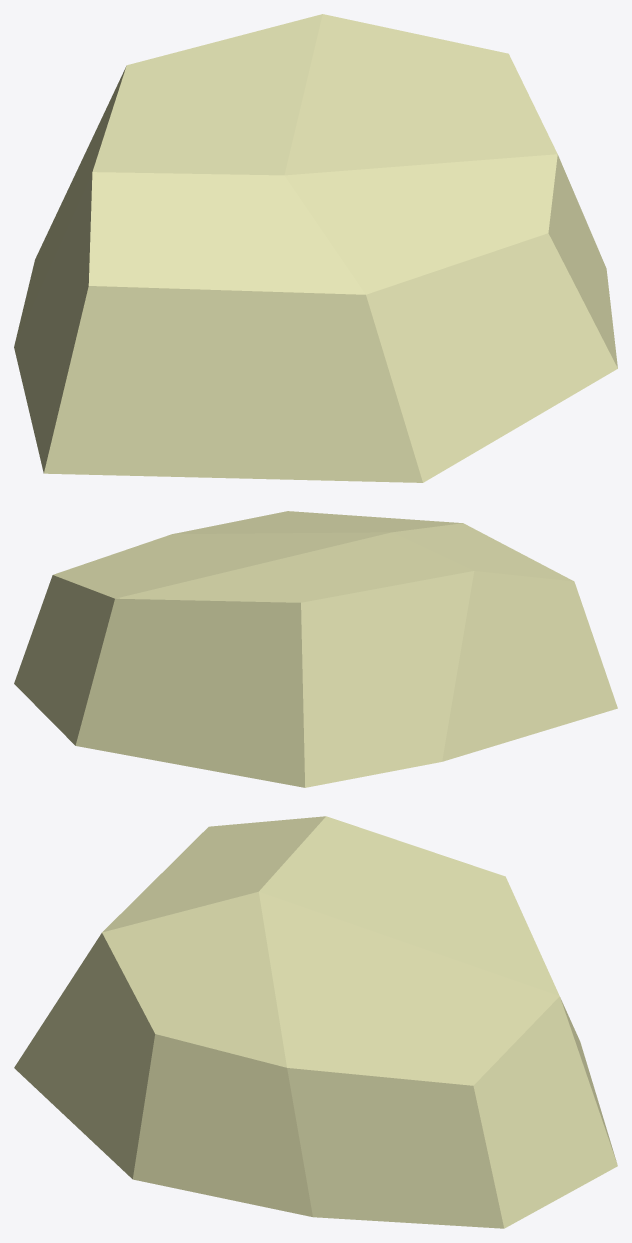
Rendered from Rock_Mesa_Medium_2.fbx.
The picture shows the model from 3 angles, top to bottom: view 1: azimuth 30°, elevation 25°; view 2: azimuth 150°, elevation 25°; view 3: azimuth 270°, elevation 25°; orthographic projection. The views are drawn at different scales.
Visible parts, largest first — view 1: Rock; view 2: Rock; view 3: Rock.
Part boxes in pixels (box(x1,y1,x2,y2)): Rock: box(14, 14, 617, 482); Rock: box(14, 511, 617, 787); Rock: box(14, 816, 617, 1228).
Size of the model in its own units: 97.52 by 30.47 by 88.83.
